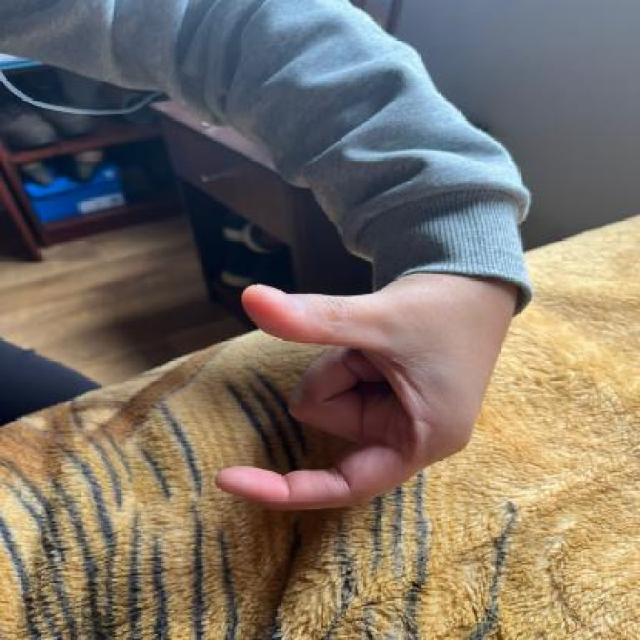G: (215, 277, 516, 514)
